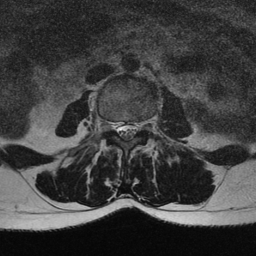CCS_normal: (122, 113, 130, 147)
LFS_normal: (140, 111, 148, 140)
LLS_normal: (130, 113, 138, 142)
RFS_normal: (107, 112, 116, 138)
RLS_normal: (116, 113, 123, 143)
